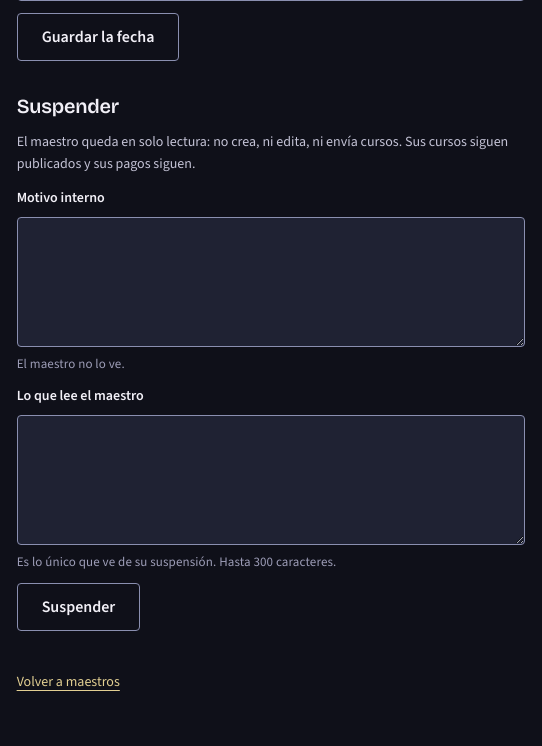
Scenario: PA-66 › lo escrito para suspender no aparece en el aviso de una propuesta de fraude, ni al revés
The image size is (542, 746).
(page scrolled)
Click the button "Suspender": (78, 607) 17,583 -> 140,631
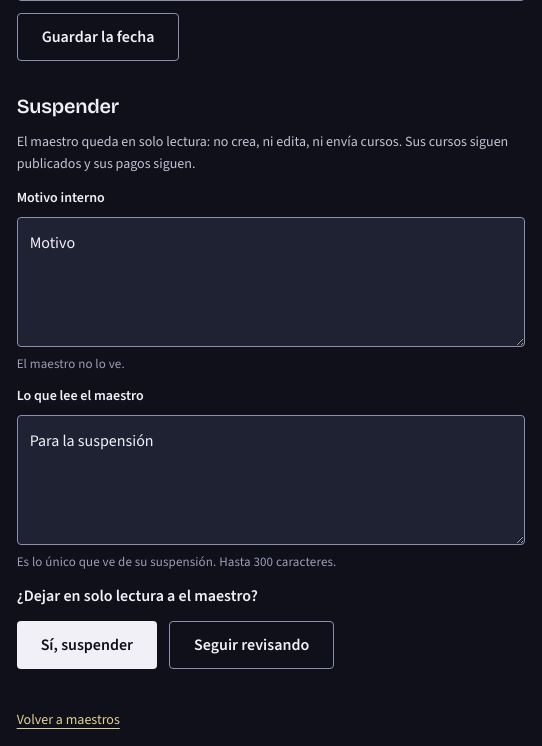
Result: the button "Sí, suspender" is shown at 17,621 -> 157,669
Result: the text box labelled "Lo que lee el maestro" holds "Para la suspensión" at 17,415 -> 525,545
